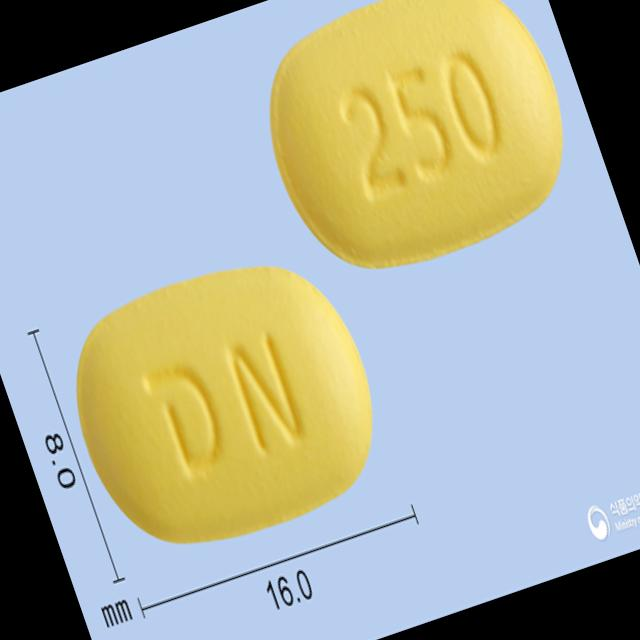Clamycin: (39, 225, 411, 582), (233, 0, 602, 303)
